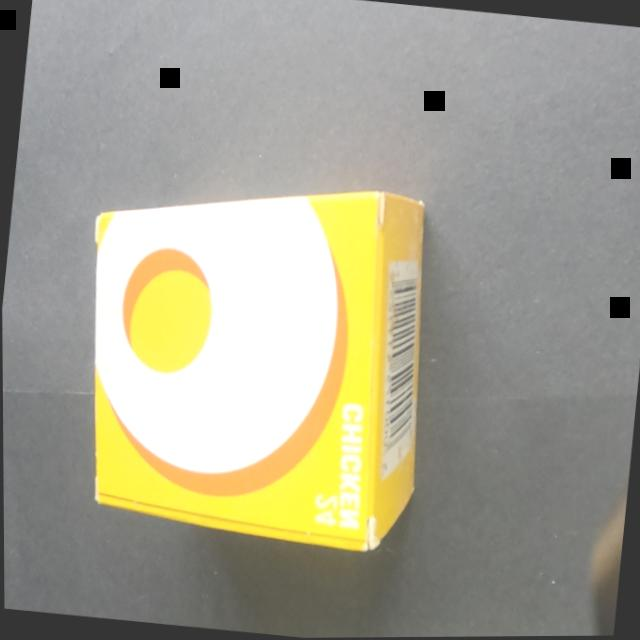Chickenstock: (48, 143, 454, 584)
